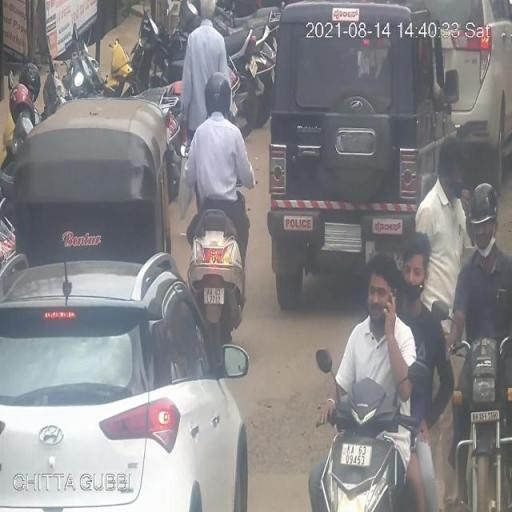numberplate: (338, 438, 373, 466)
using mobile: (368, 280, 404, 326)
